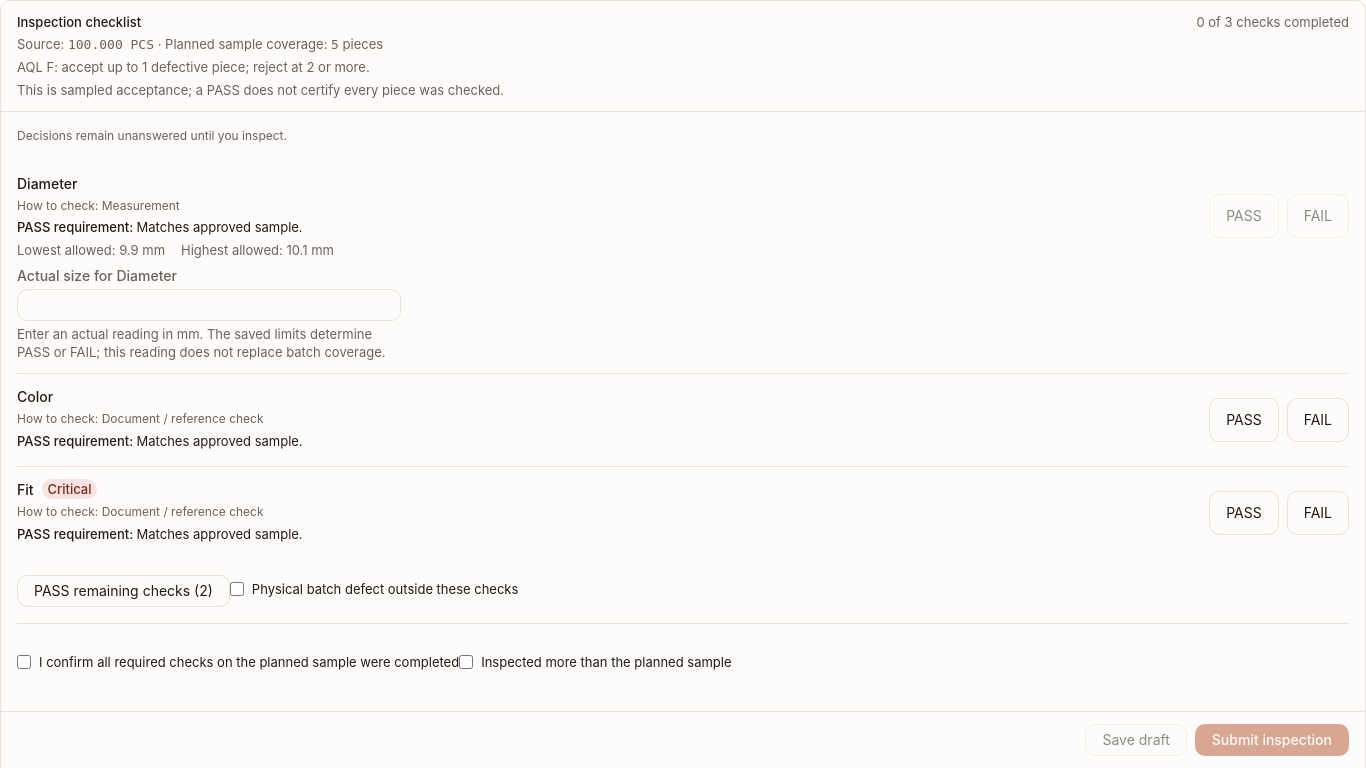
Test: blocks invalid size input, requires failure details, and excludes size checks from bulk PASS
Step 1. Click the button "PASS remaining checks (2)" → point(123, 591), box [17,575,230,607]
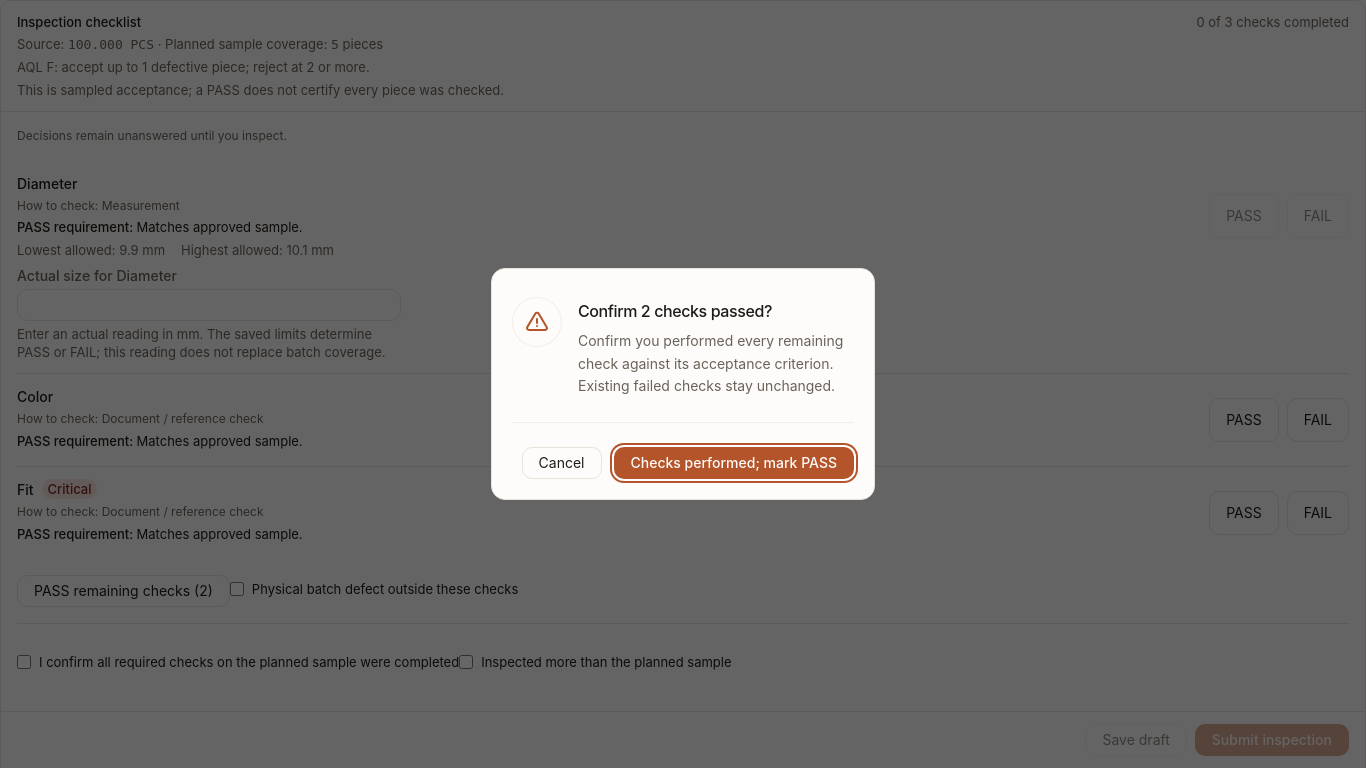
Step 2. Click the button "Checks performed; mark PASS" → point(734, 463), box [614,447,854,479]
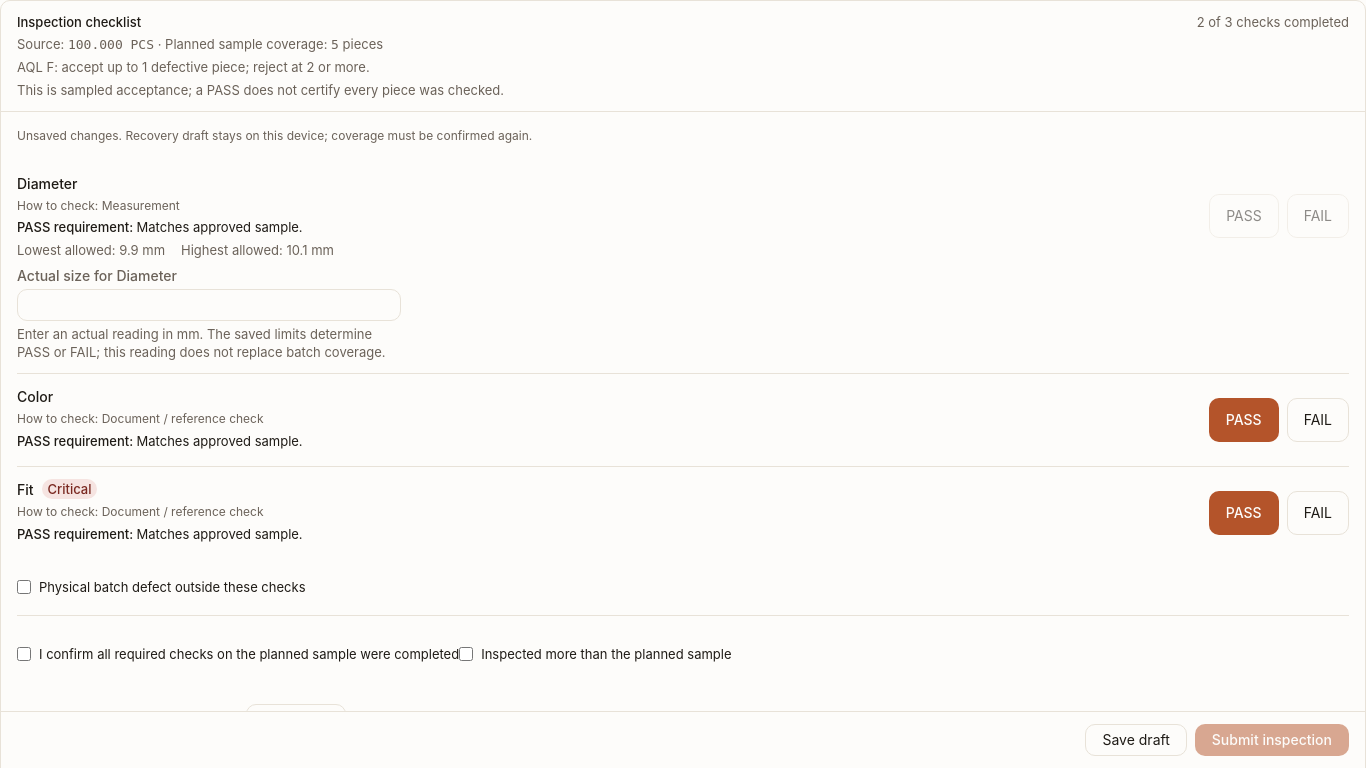
Expected: the dialog is gone
Step 3. Type "10.10001" into the field labelled "Actual size for Diameter" → point(209, 305), box [18,290,400,320]
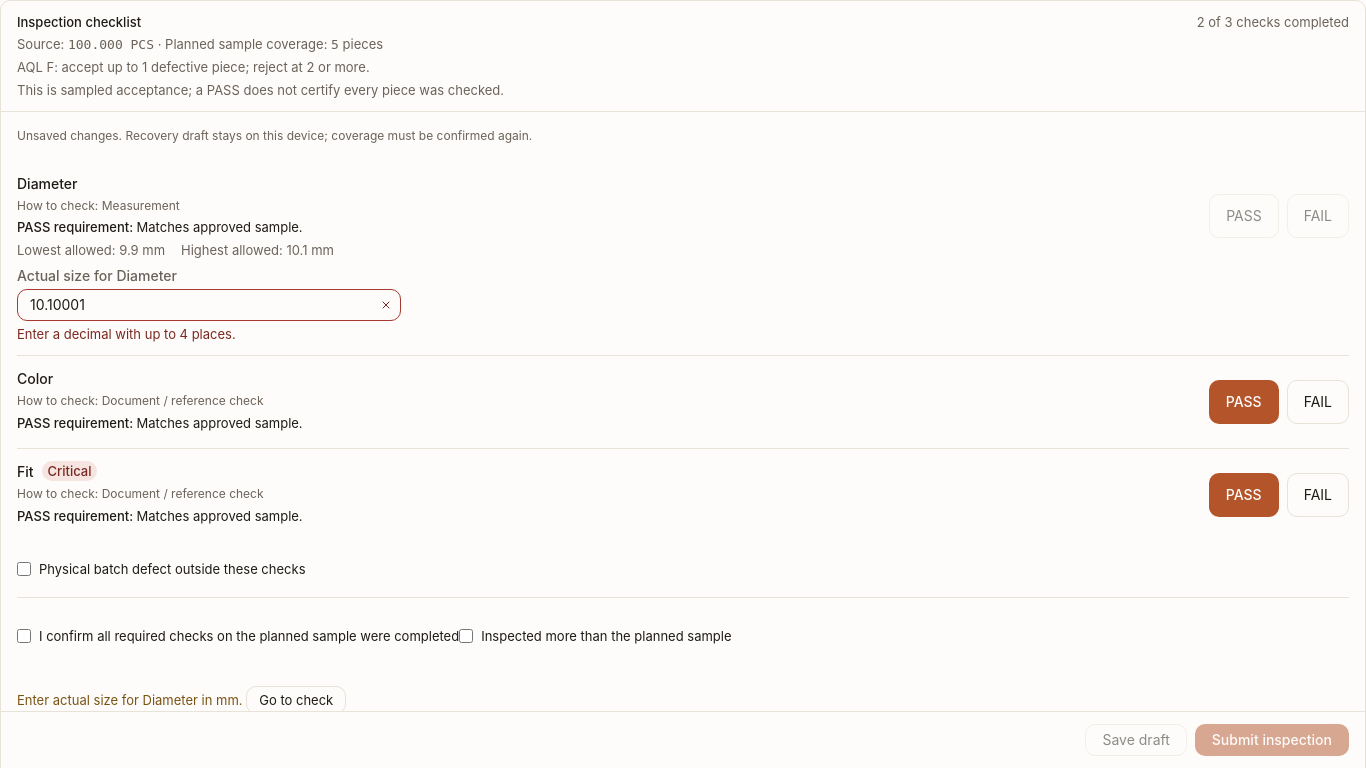
Expected: the button "Submit inspection" is disabled, [1195,724,1349,756]
Expected: the text "Enter a decimal with up to 4 places." is shown, [17,326,236,342]
Step 4. Replace the text in the field labelled "Actual size for Diameter" with "10.2" → point(195, 305), box [18,290,372,320]
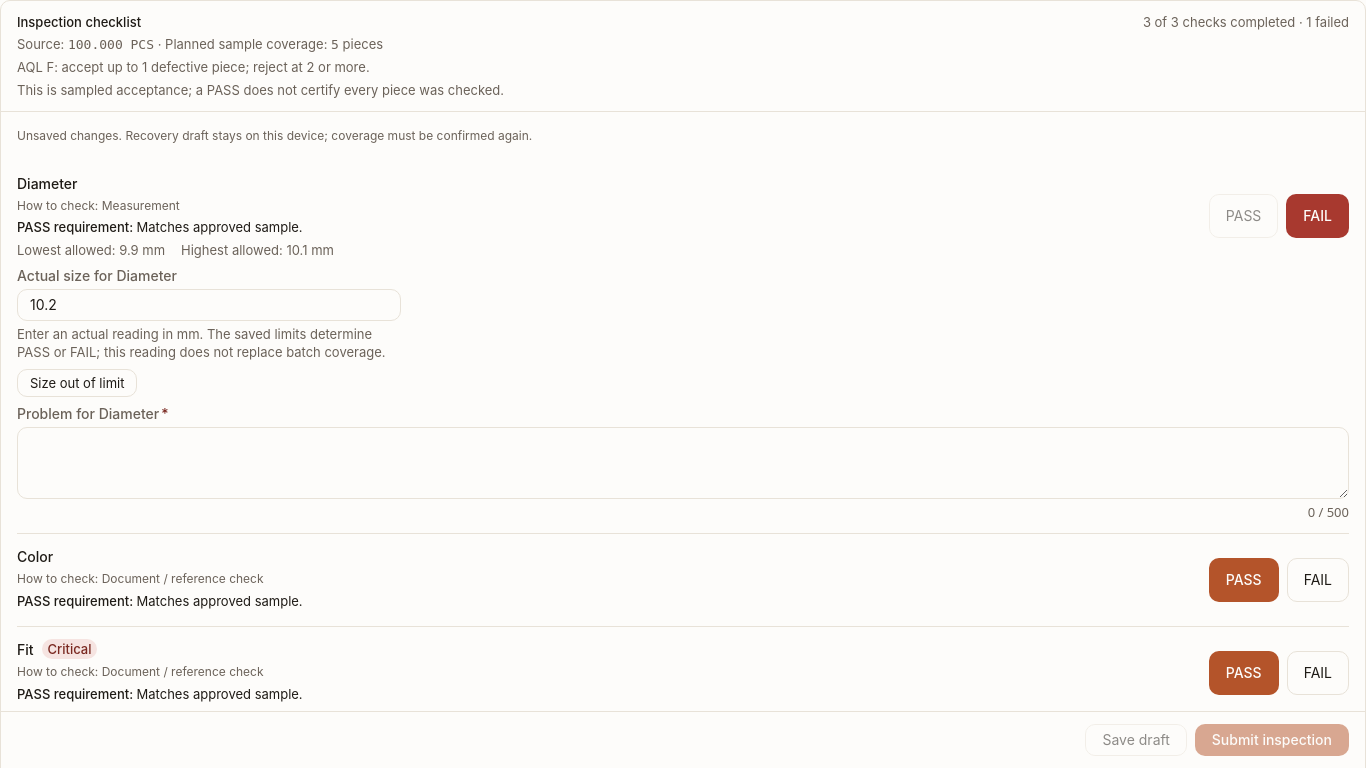
Expected: the button with aria-label "PASS Diameter" is disabled, [1209,194,1278,238]
Expected: the text box labelled "Problem for Diameter" is shown, [17,427,1349,499]
